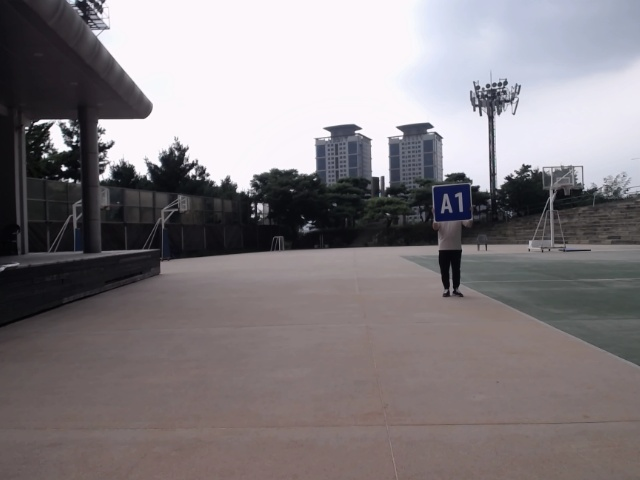delivery_a1: (434, 184, 472, 222)
